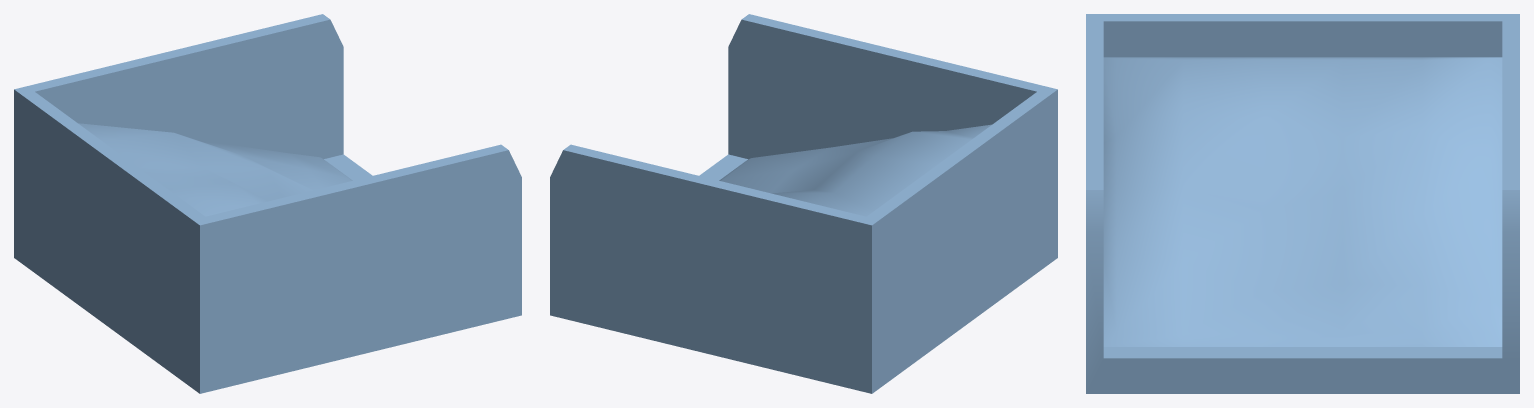
The model's file is PSKiceBox.FBX.
3 views of the same model, side by side, from view 1: azimuth 30°, elevation 25°; view 2: azimuth 150°, elevation 25°; view 3: azimuth 270°, elevation 25° (orthographic). The views are drawn at different scales.
Visible parts, largest first — view 1: PSKiceBox; view 2: PSKiceBox; view 3: PSKiceBox.
Part boxes in pixels (box(x1,y1,x2,y2)): PSKiceBox: box(14, 14, 521, 393); PSKiceBox: box(550, 14, 1057, 393); PSKiceBox: box(1086, 14, 1519, 393).
Bounding box in the file's own units: 1 × 0.5 × 1.
